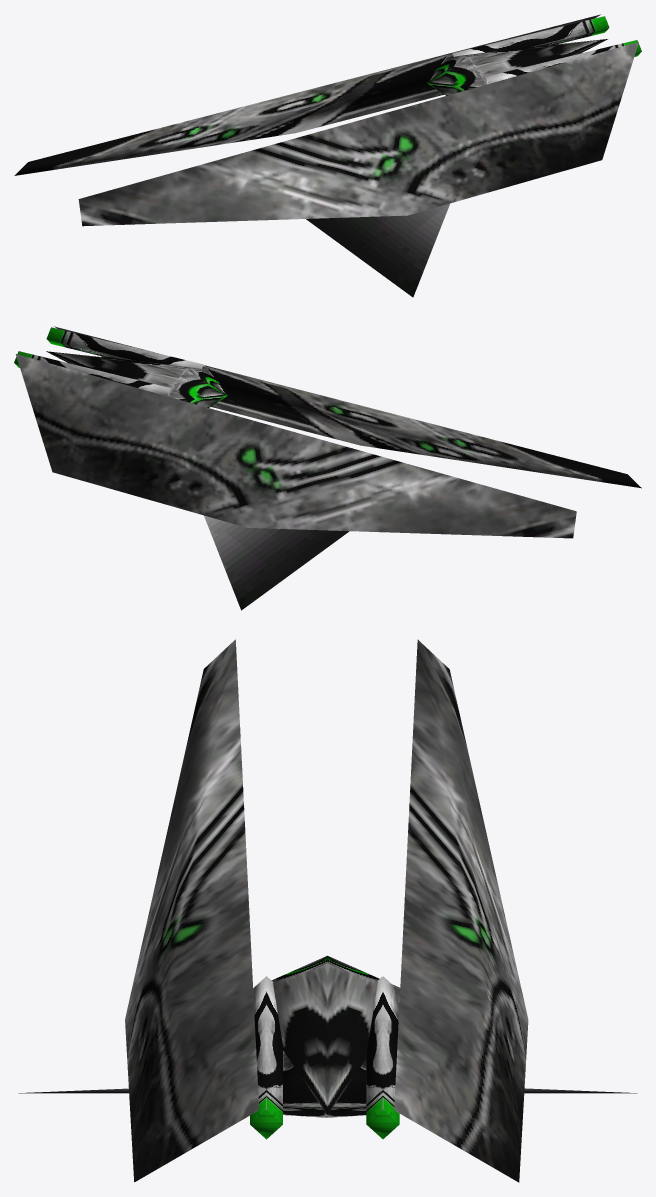
File: harvest07.obj
3 renders of one model, top to bottom at view 1: azimuth 30°, elevation 25°; view 2: azimuth 150°, elevation 25°; view 3: azimuth 270°, elevation 25°, orthographic. The views are drawn at different scales.
Parts seen in each view (by area): view 1: BOX020.001, OBJECT010.005; view 2: BOX020.001, OBJECT010.005; view 3: BOX020.001, OBJECT010.005.
Boxes of the visible parts, x1,y1,x2,y2 form: BOX020.001: [14, 14, 641, 226]; OBJECT010.005: [306, 203, 450, 297]; BOX020.001: [14, 326, 641, 538]; OBJECT010.005: [204, 515, 348, 610]; BOX020.001: [125, 639, 528, 1182]; OBJECT010.005: [18, 1088, 637, 1093].
Bounding box in the file's own units: 181 × 42.7 × 95.58.
2 materials, 2 textured.
